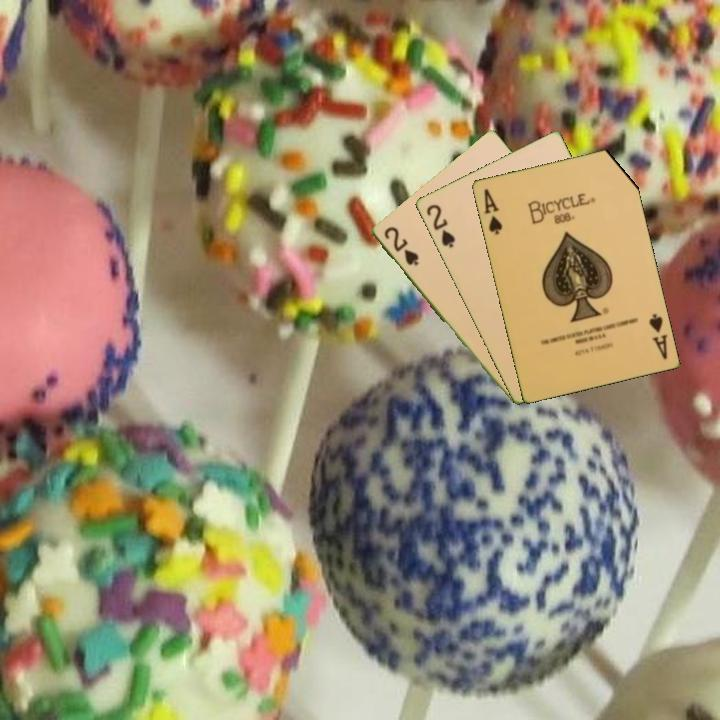2s: (380, 223, 421, 269), (422, 200, 458, 251)
As: (480, 185, 505, 237), (645, 310, 670, 362)
